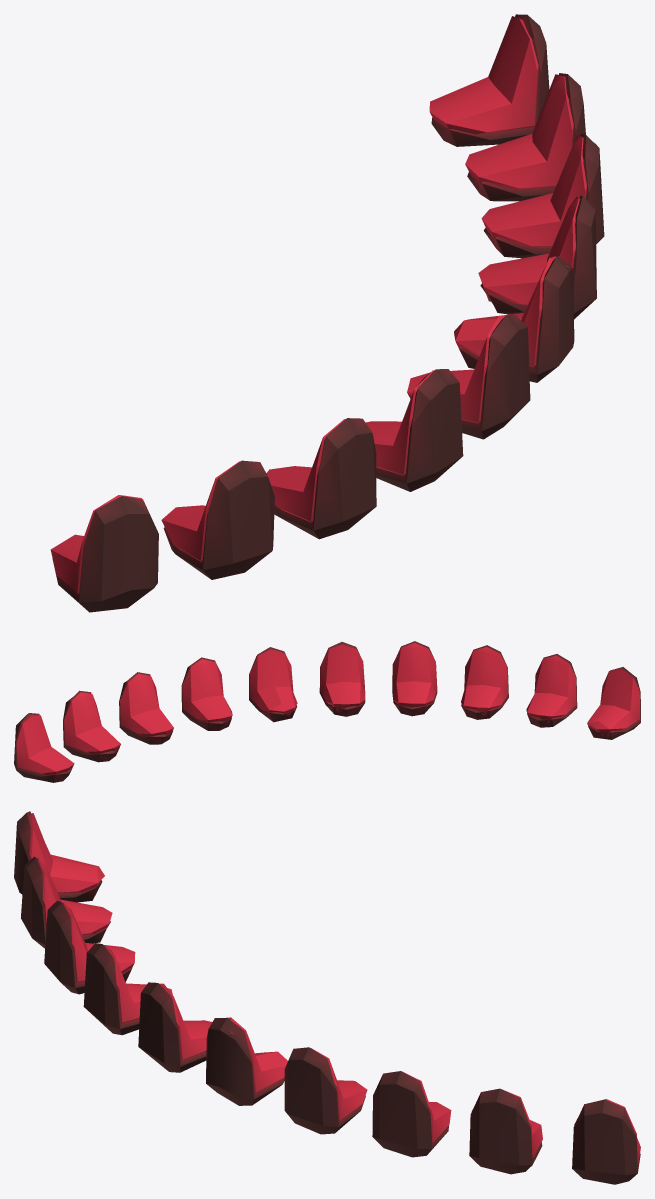
File: TheatreChairs.fbx
3 renders of one model, top to bottom at view 1: azimuth 30°, elevation 25°; view 2: azimuth 150°, elevation 25°; view 3: azimuth 270°, elevation 25°, orthographic. The views are drawn at different scales.
Visible parts, largest first — view 1: Cube.001; view 2: Cube.001; view 3: Cube.001.
Part boxes in pixels (bbox=[...]): Cube.001: bbox=[50, 14, 604, 612]; Cube.001: bbox=[14, 641, 640, 782]; Cube.001: bbox=[14, 811, 640, 1184].
Bounding box in the file's own units: 2083 × 277 × 1801.
